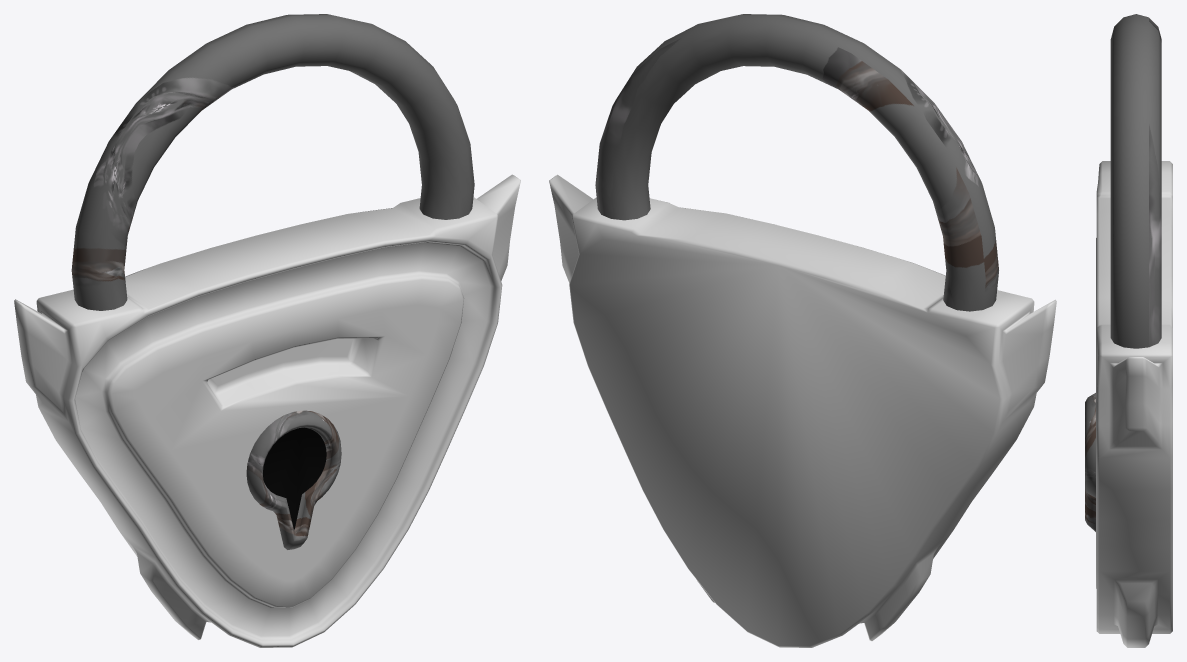
The model's file is KeyLock.fbx.
3 renders of one model, left to right at view 1: azimuth 30°, elevation 25°; view 2: azimuth 150°, elevation 25°; view 3: azimuth 270°, elevation 25°, orthographic. The views are drawn at different scales.
Visible parts, largest first — view 1: Cylinder.001, Torus.012, Cylinder.002; view 2: Cylinder.001, Torus.012; view 3: Cylinder.001, Torus.012, Cylinder.002.
Part boxes in pixels (x1,y1,x2,y2): Cylinder.001: (14, 174, 520, 647); Torus.012: (71, 14, 474, 310); Cylinder.002: (246, 410, 341, 549); Cylinder.001: (549, 174, 1056, 647); Torus.012: (595, 14, 998, 311); Cylinder.001: (1096, 161, 1172, 647); Torus.012: (1110, 14, 1161, 348); Cylinder.002: (1085, 393, 1095, 531).
Bounding box in the file's own units: 178 × 208 × 27.99.
